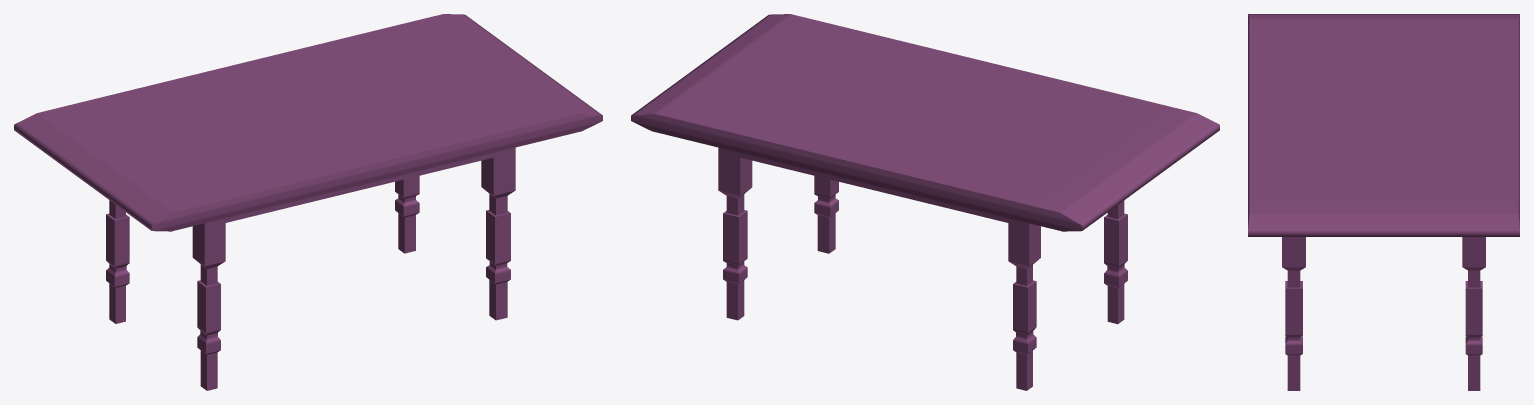
File: Pride_Table.fbx
3 views of the same model, side by side, from view 1: azimuth 30°, elevation 25°; view 2: azimuth 150°, elevation 25°; view 3: azimuth 270°, elevation 25° (orthographic).
Visible parts, largest first — view 1: pasted__Table; view 2: pasted__Table; view 3: pasted__Table.
Boxes of the visible parts, box(x1,y1,x2,y2) form: pasted__Table: box(14, 14, 602, 390); pasted__Table: box(631, 14, 1219, 390); pasted__Table: box(1248, 14, 1519, 390).
Size of the model in its own units: 4.92 by 2.14 by 2.6.
